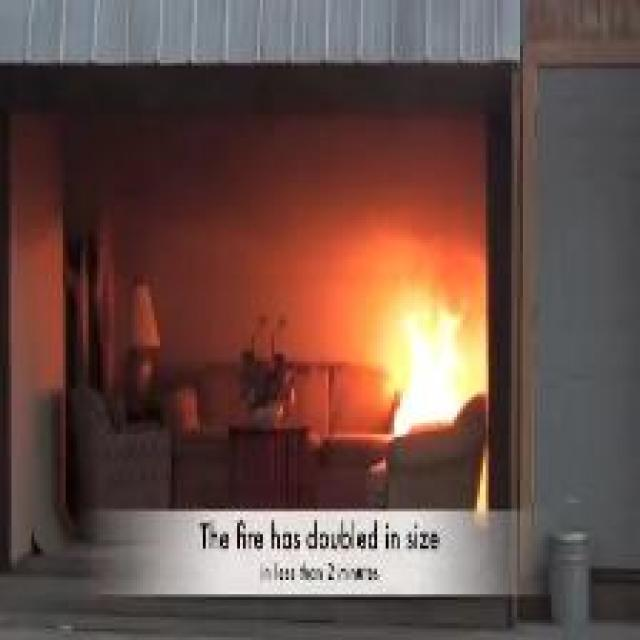Fire: (392, 300, 468, 434)
